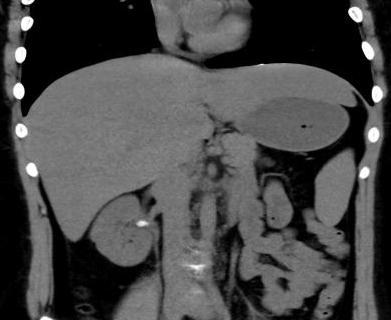Tas_Var: (136, 218, 150, 228)
